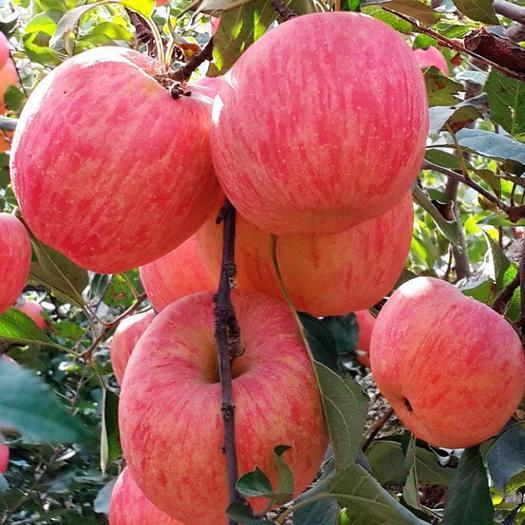apple: (113, 291, 346, 519), (210, 8, 431, 238), (6, 48, 222, 274), (198, 195, 420, 315), (372, 277, 522, 451)
